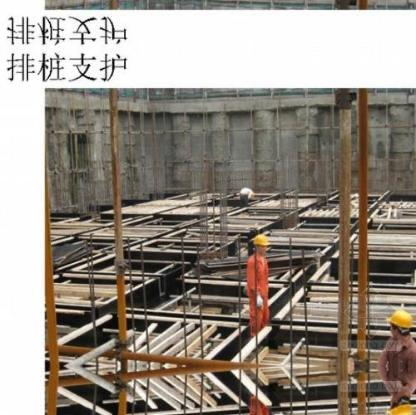helmet: (383, 308, 415, 332), (250, 233, 272, 250)
